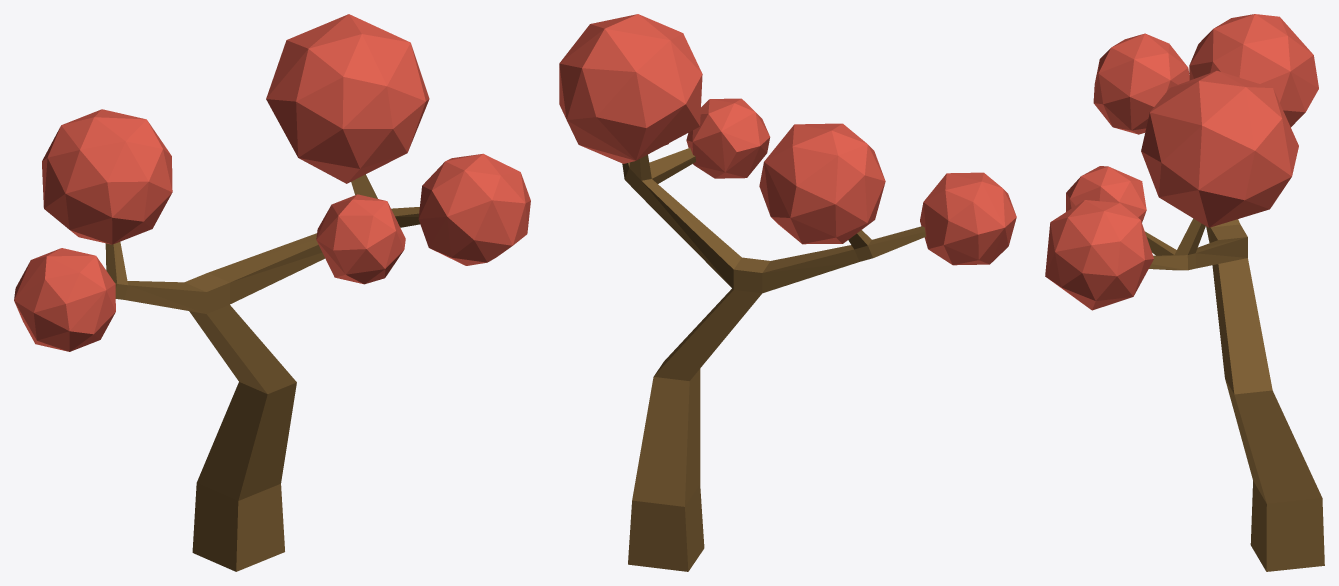
The model's file is tree_00008.fbx.
3 renders of one model, left to right at view 1: azimuth 30°, elevation 25°; view 2: azimuth 150°, elevation 25°; view 3: azimuth 270°, elevation 25°, orthographic. The views are drawn at different scales.
Parts seen in each view (by area): view 1: tree; view 2: tree; view 3: tree.
Part boxes in pixels (bbox=[...]): tree: bbox=[14, 14, 530, 571]; tree: bbox=[559, 14, 1016, 571]; tree: bbox=[1045, 14, 1324, 571].
Size of the model in its own units: 898 by 953 by 474.
